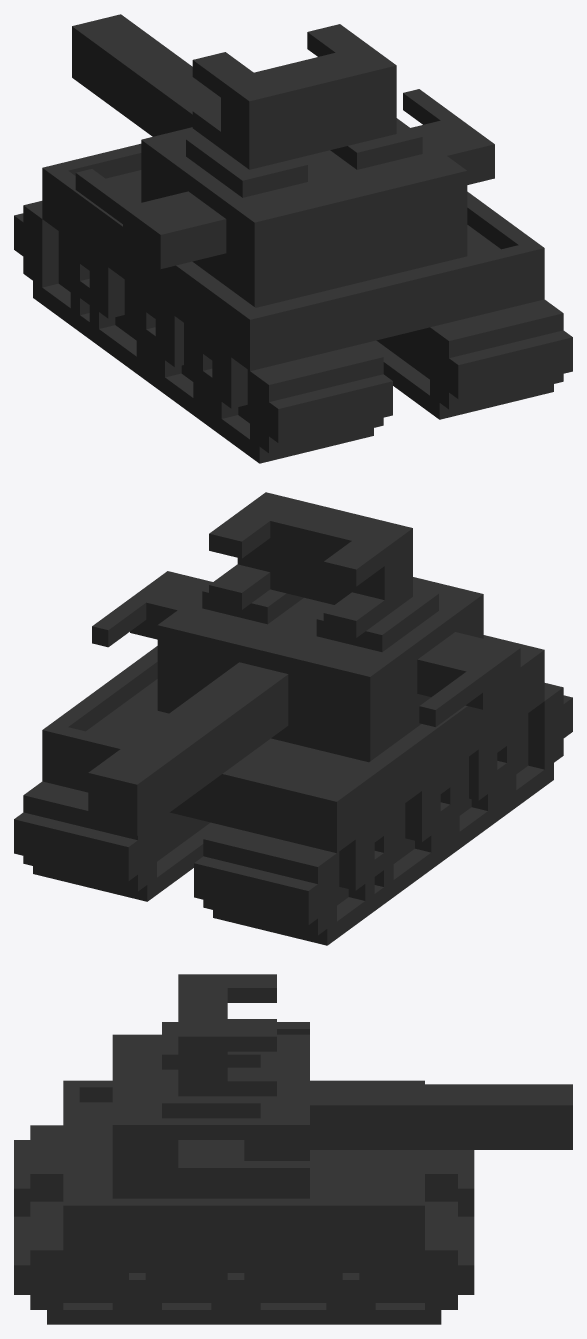
File: Tank.obj
3 renders of one model, top to bottom at view 1: azimuth 30°, elevation 25°; view 2: azimuth 150°, elevation 25°; view 3: azimuth 270°, elevation 25°, orthographic. The views are drawn at different scales.
Size of the model in its own units: 2.1 by 1.7 by 3.4.
1 material, 1 textured.
